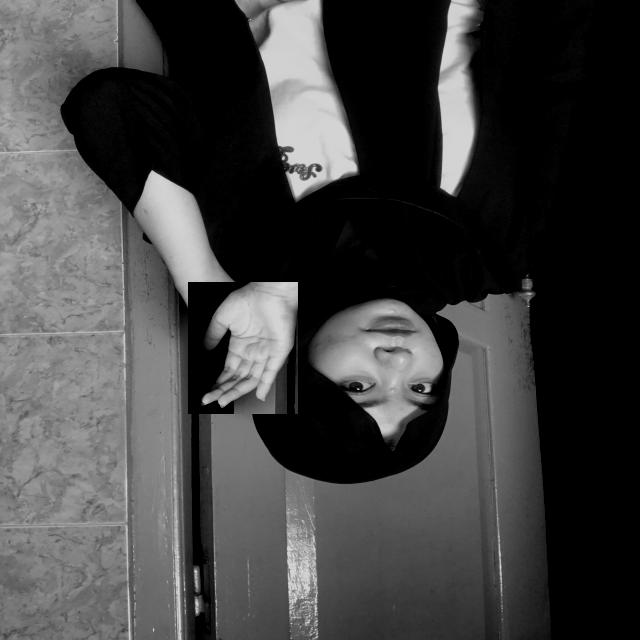mendengar: (188, 282, 298, 414)
